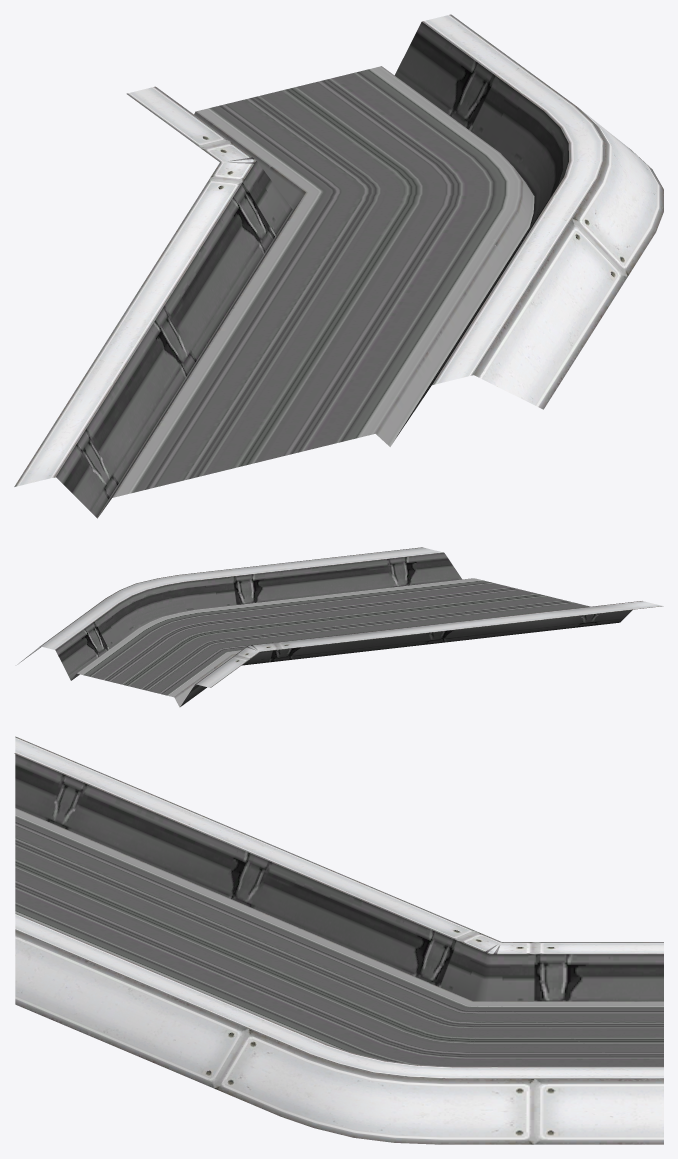
Rendered from Ground_Trim_DockCornerB.FBX.
The picture shows the model from 3 angles, top to bottom: view 1: azimuth 30°, elevation 25°; view 2: azimuth 150°, elevation 25°; view 3: azimuth 270°, elevation 25°; orthographic projection. The views are drawn at different scales.
Parts seen in each view (by area): view 1: Ground_Trim_DockCornerB; view 2: Ground_Trim_DockCornerB; view 3: Ground_Trim_DockCornerB.
Part boxes in pixels (box(x1,y1,x2,y2)): Ground_Trim_DockCornerB: box(14, 14, 663, 518); Ground_Trim_DockCornerB: box(17, 547, 663, 707); Ground_Trim_DockCornerB: box(14, 736, 663, 1144).
Bounding box in the file's own units: 2.65 × 0.1522 × 2.
